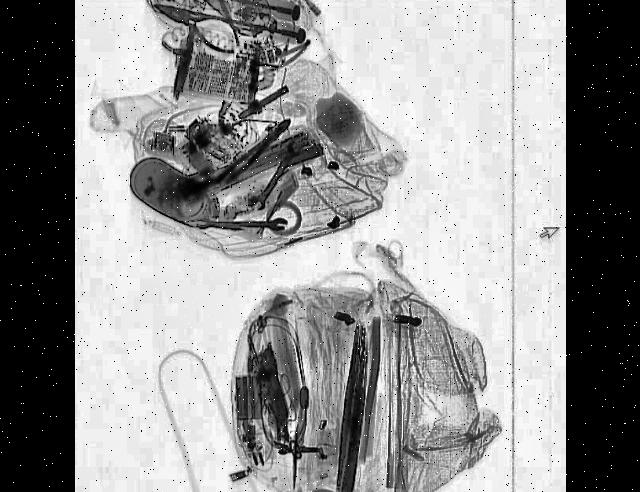Pliers: (149, 0, 241, 57), (223, 110, 293, 184)
Wrench: (246, 133, 304, 217), (195, 214, 287, 230)
